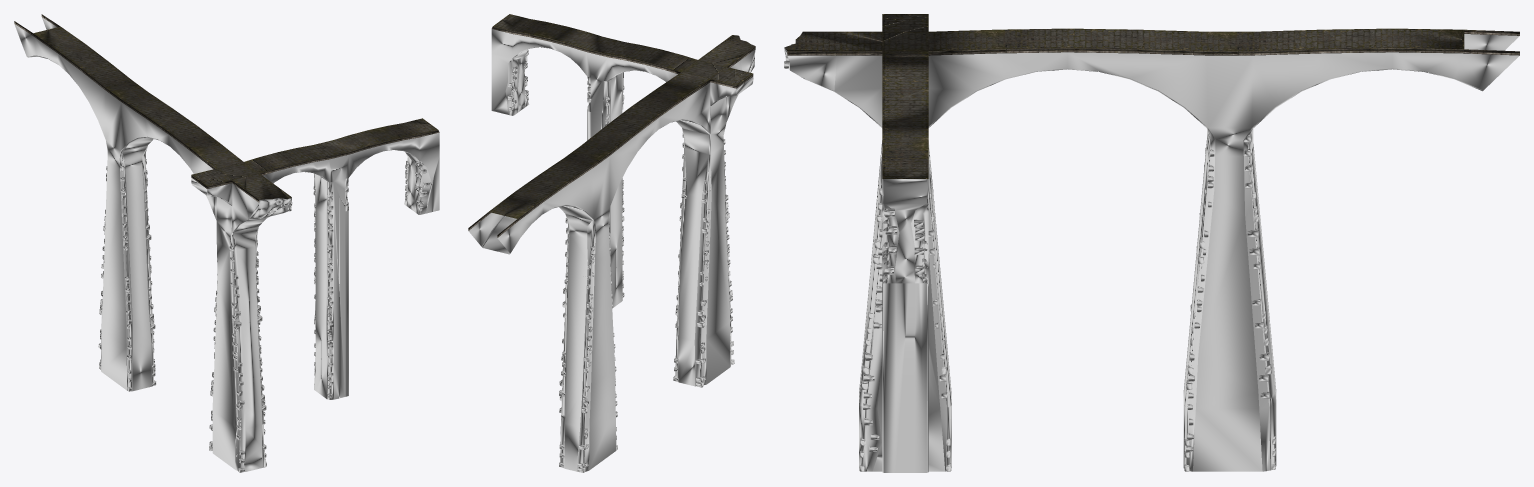
3 renders of one model, left to right at view 1: azimuth 30°, elevation 25°; view 2: azimuth 150°, elevation 25°; view 3: azimuth 270°, elevation 25°, orthographic. The views are drawn at different scales.
Parts seen in each view (by area): view 1: mesh0, mesh5, mesh2, mesh1, mesh4, mesh3, mesh6; view 2: mesh0, mesh5, mesh2, mesh1, mesh3, mesh6; view 3: mesh0, mesh5, mesh2, mesh1, mesh4, mesh6.
Part boxes in pixels (bbox=[...]): mesh0: bbox=[14, 17, 439, 471]; mesh5: bbox=[14, 14, 439, 202]; mesh2: bbox=[100, 143, 431, 467]; mesh1: bbox=[98, 159, 430, 472]; mesh4: bbox=[245, 193, 291, 219]; mesh3: bbox=[191, 178, 232, 205]; mesh6: bbox=[217, 162, 259, 180]; mesh0: bbox=[468, 29, 741, 471]; mesh5: bbox=[468, 14, 755, 237]; mesh2: bbox=[505, 58, 711, 472]; mesh1: bbox=[507, 50, 734, 472]; mesh3: bbox=[710, 76, 753, 105]; mesh6: bbox=[681, 60, 726, 78]; mesh0: bbox=[834, 34, 1519, 472]; mesh5: bbox=[784, 14, 1519, 178]; mesh2: bbox=[859, 128, 1276, 471]; mesh1: bbox=[784, 44, 1275, 471]; mesh4: bbox=[784, 47, 836, 91]; mesh6: bbox=[882, 31, 928, 51].
Bounding box in the file's own units: 16.94 × 20.15 × 31.74.
